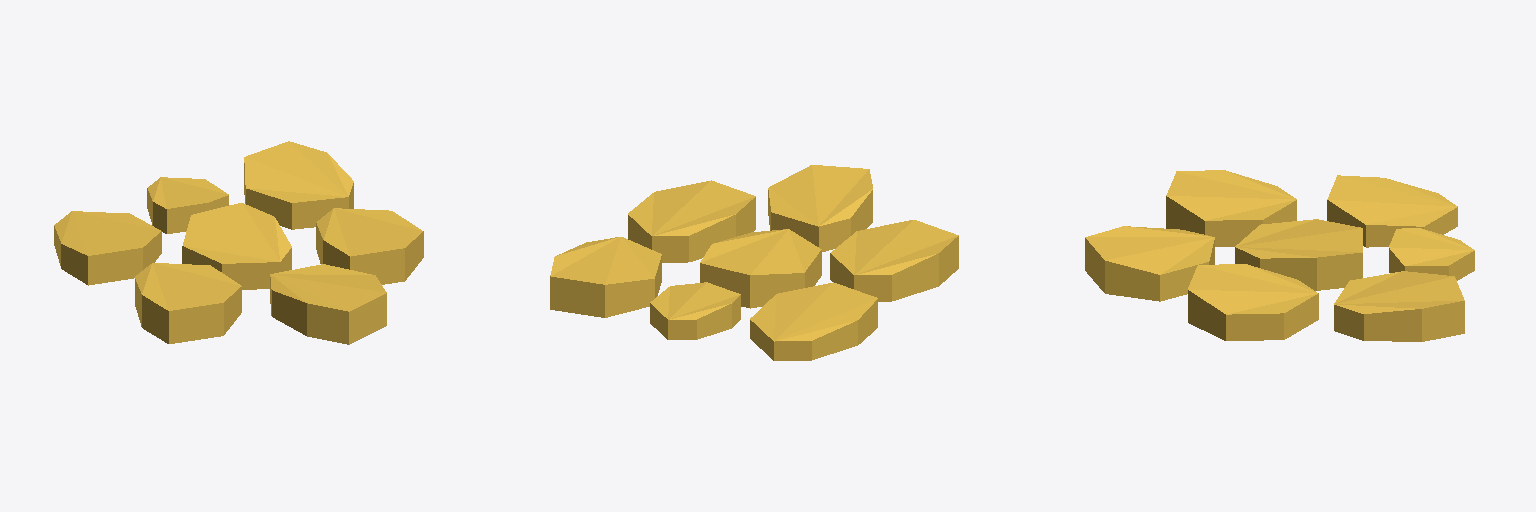
File: Farm.obj
The picture shows the model from 3 angles: view 1: azimuth 30°, elevation 25°; view 2: azimuth 150°, elevation 25°; view 3: azimuth 270°, elevation 25°; orthographic projection.
Parts seen in each view (by area): view 1: Cylinder_Copy, Cylinder_Copy_Copy_Copy_Copy, Cylinder, Cylinder_Copy_Copy_Copy, Cylinder_Copy_Copy; view 2: Cylinder_Copy, Cylinder_Copy_Copy_Copy_Copy, Cylinder_Copy_Copy_Copy, Cylinder_Copy_Copy, Cylinder; view 3: Cylinder_Copy, Cylinder_Copy_Copy_Copy_Copy, Cylinder_Copy_Copy, Cylinder, Cylinder_Copy_Copy_Copy.
Part boxes in pixels (left/top/right/bottom): Cylinder_Copy: left=182, top=141, right=353, bottom=289; Cylinder_Copy_Copy_Copy_Copy: left=54, top=177, right=228, bottom=285; Cylinder: left=270, top=264, right=386, bottom=344; Cylinder_Copy_Copy_Copy: left=135, top=263, right=241, bottom=343; Cylinder_Copy_Copy: left=316, top=208, right=423, bottom=284; Cylinder_Copy: left=550, top=229, right=821, bottom=317; Cylinder_Copy_Copy_Copy_Copy: left=650, top=282, right=877, bottom=360; Cylinder_Copy_Copy_Copy: left=830, top=220, right=958, bottom=301; Cylinder_Copy_Copy: left=628, top=180, right=755, bottom=262; Cylinder: left=768, top=165, right=872, bottom=251; Cylinder_Copy: left=1235, top=219, right=1464, bottom=341; Cylinder_Copy_Copy_Copy_Copy: left=1327, top=175, right=1474, bottom=280; Cylinder_Copy_Copy: left=1188, top=264, right=1318, bottom=340; Cylinder: left=1085, top=226, right=1214, bottom=301; Cylinder_Copy_Copy_Copy: left=1166, top=170, right=1296, bottom=246.
Bounding box in the file's own units: 2.44 × 0.273 × 2.9.